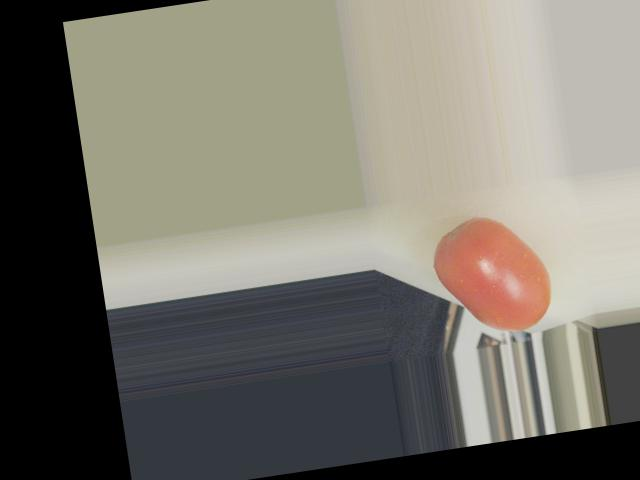tomato: (428, 208, 556, 342)
